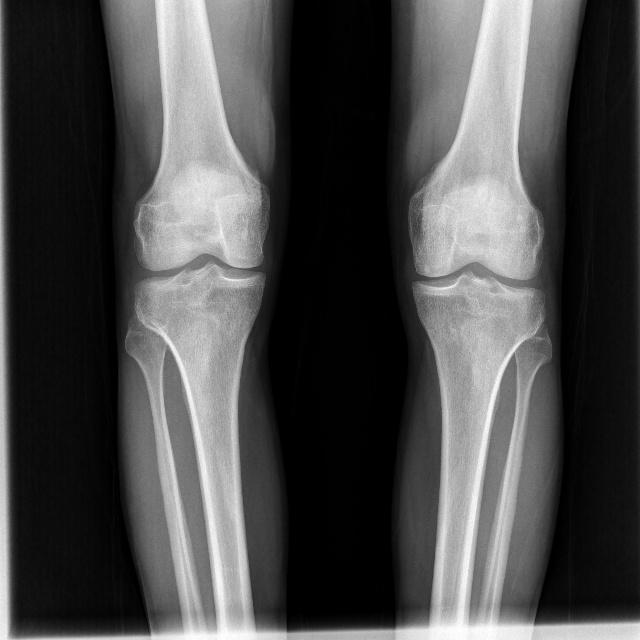Knee: (404, 203, 547, 339), (128, 202, 271, 327)
